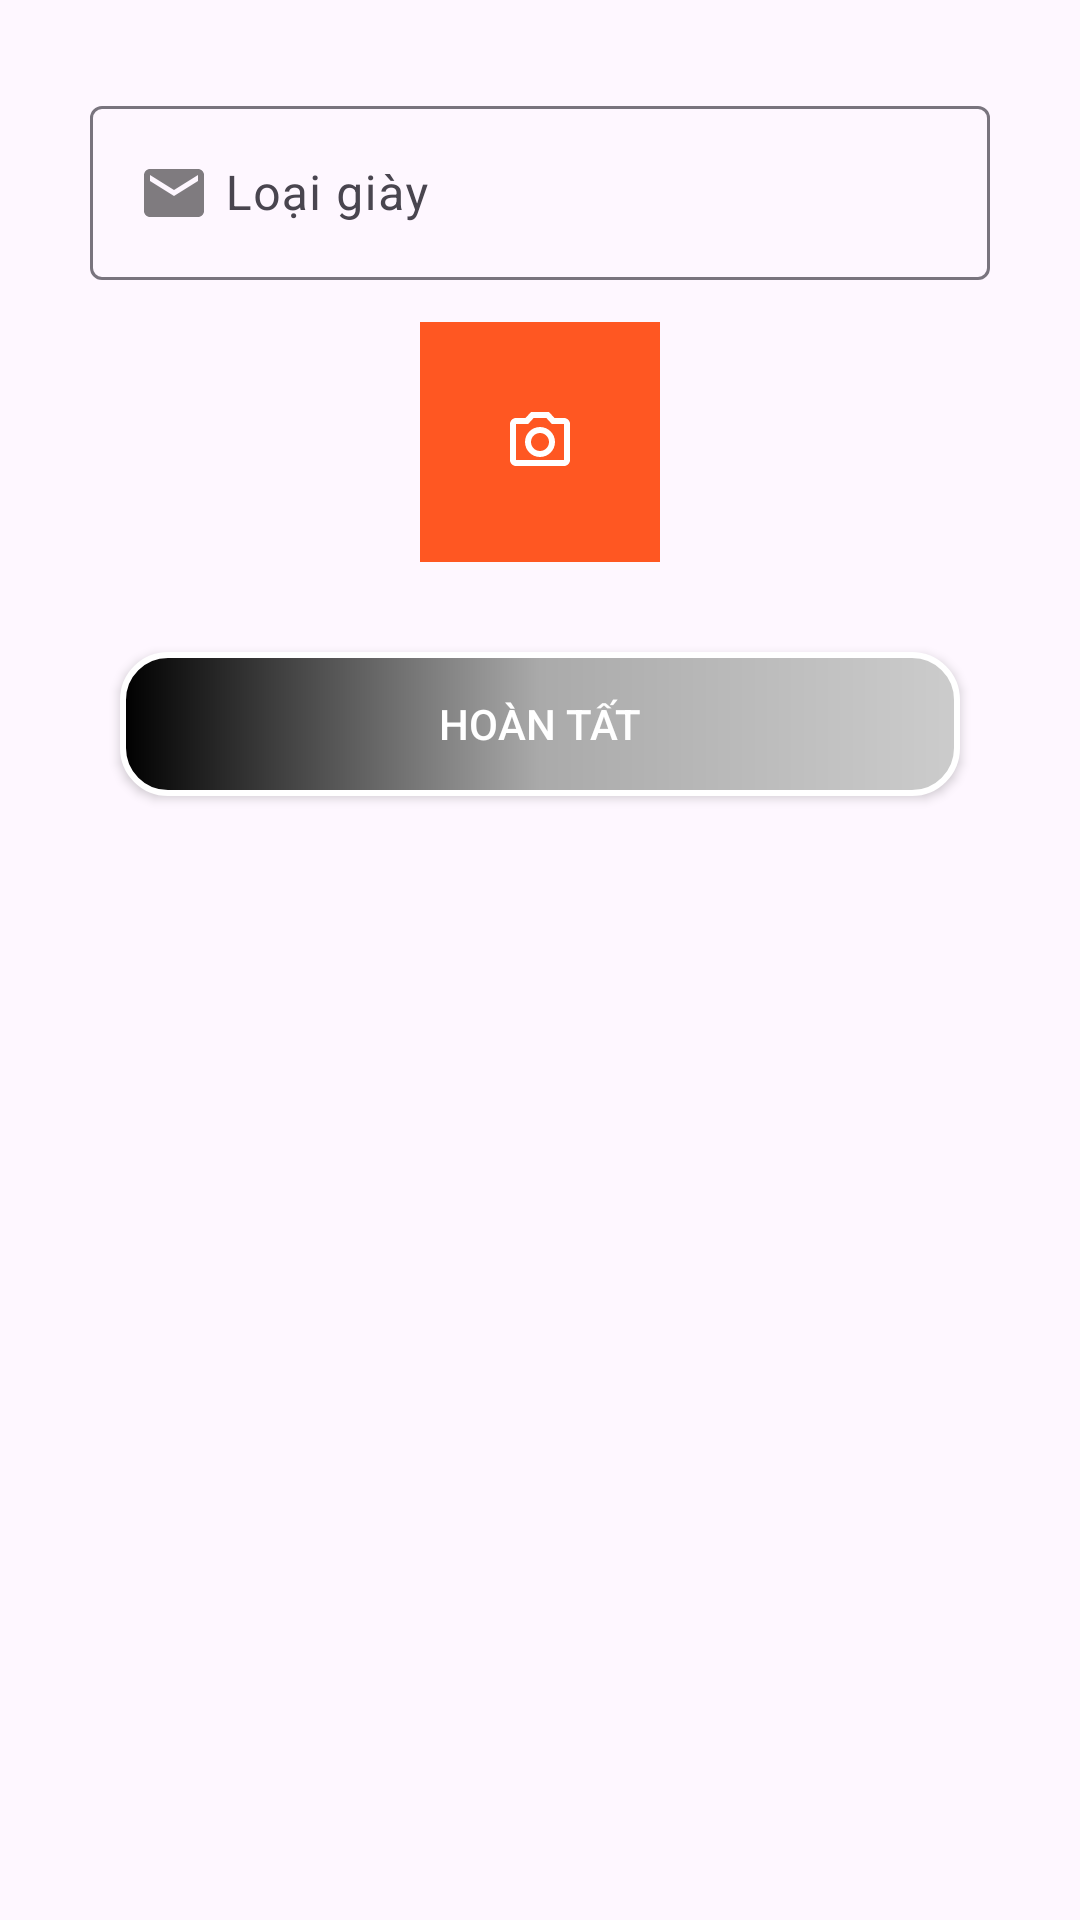

Where to tap for icons on this 1080w x 1920h app screen, as (x=x, y=y):
camera: (x=540, y=442)
